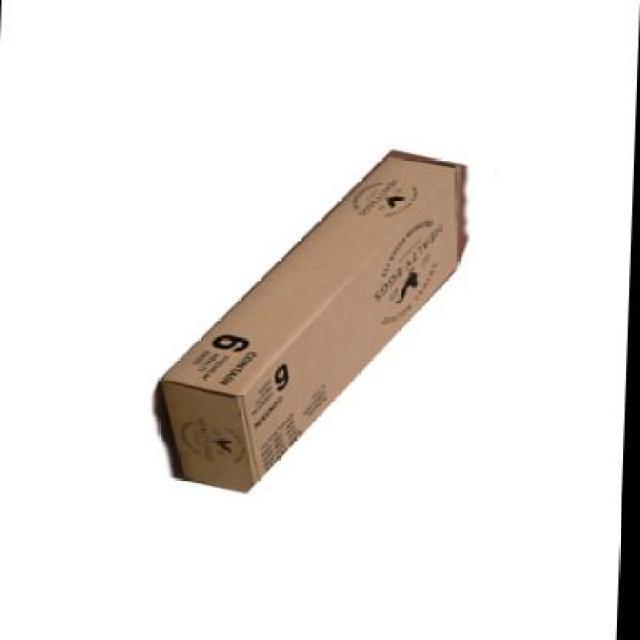box: (158, 152, 464, 494)
